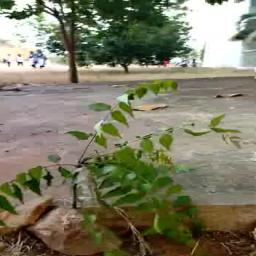Azadiractha Indica: (0, 67, 255, 255)
